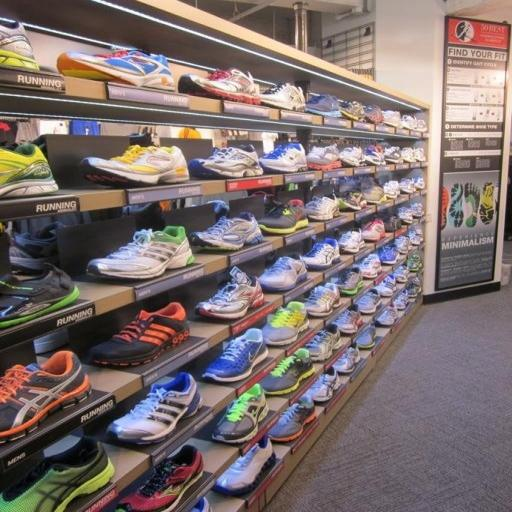shoe: (0, 436, 115, 512), (0, 350, 91, 442), (107, 372, 202, 444), (90, 302, 190, 366), (116, 444, 204, 512), (87, 226, 195, 280), (0, 263, 80, 329), (56, 50, 175, 92), (79, 144, 189, 186), (213, 436, 276, 496), (196, 266, 265, 319), (202, 328, 268, 382), (212, 383, 269, 444), (0, 143, 59, 198), (178, 67, 260, 105), (9, 222, 65, 274), (190, 212, 263, 250), (260, 348, 315, 395), (188, 145, 263, 179), (268, 394, 317, 442), (262, 300, 309, 346), (0, 20, 39, 70), (259, 254, 308, 292), (258, 198, 309, 234), (259, 142, 307, 174), (304, 324, 342, 361), (259, 82, 305, 112), (304, 282, 342, 317), (307, 367, 342, 403), (302, 238, 340, 270), (333, 304, 363, 334), (333, 342, 360, 375), (306, 146, 342, 170), (304, 196, 340, 220), (306, 94, 341, 118), (336, 266, 364, 295), (355, 288, 382, 314), (338, 229, 365, 254), (361, 179, 387, 204), (338, 190, 367, 212), (359, 253, 382, 279), (361, 219, 386, 242), (375, 304, 399, 327), (355, 323, 376, 349), (339, 146, 365, 167), (375, 274, 397, 298), (339, 100, 364, 120), (207, 200, 230, 220), (363, 146, 386, 166), (378, 244, 398, 266), (363, 104, 384, 124), (405, 276, 422, 299), (393, 235, 412, 255), (392, 289, 409, 311), (382, 180, 401, 199), (407, 224, 424, 245), (190, 496, 212, 512), (383, 214, 402, 232), (383, 110, 402, 128), (383, 146, 402, 164), (406, 253, 423, 272), (397, 206, 414, 224), (393, 265, 410, 283), (406, 229, 423, 246), (399, 178, 416, 194), (401, 147, 416, 163), (401, 115, 417, 130), (411, 176, 426, 190), (414, 118, 428, 132), (413, 148, 427, 162)
